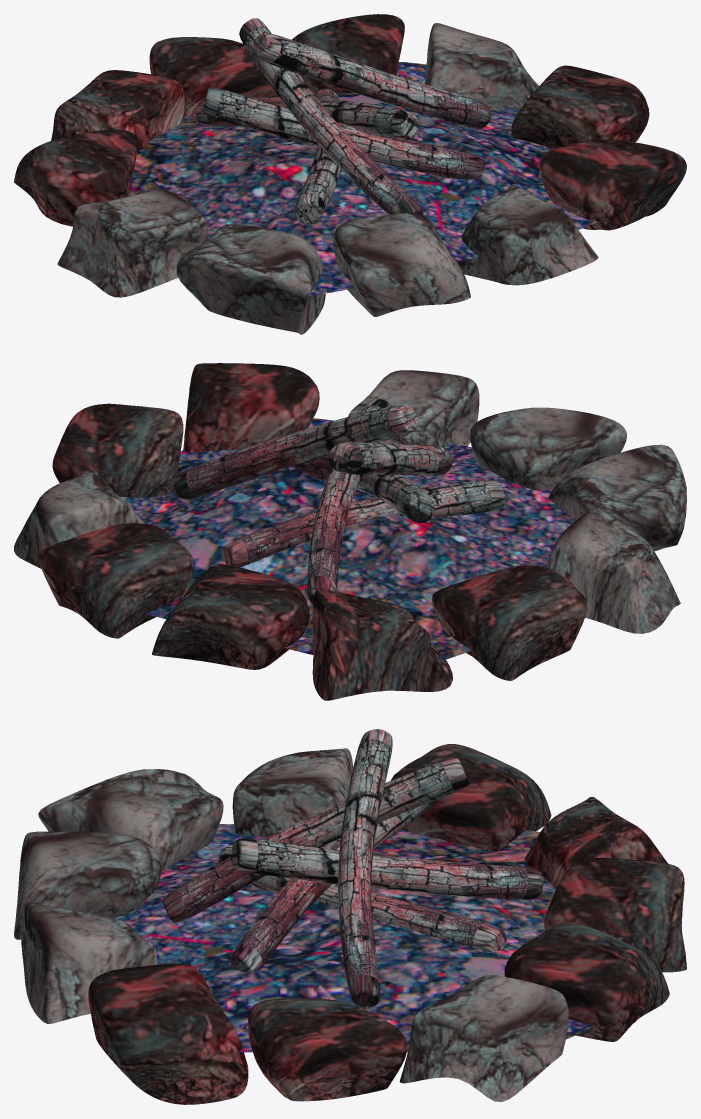
Rendered from fireplace.fbx.
The picture shows the model from 3 angles, top to bottom: view 1: azimuth 30°, elevation 25°; view 2: azimuth 150°, elevation 25°; view 3: azimuth 270°, elevation 25°; orthographic projection. The views are drawn at different scales.
Visible parts, largest first — view 1: Ohniste; view 2: Ohniste; view 3: Ohniste.
Part boxes in pixels (x1,y1,x2,y2): Ohniste: [14, 14, 686, 334]; Ohniste: [14, 363, 686, 700]; Ohniste: [14, 729, 686, 1104].
Bounding box in the file's own units: 2.57 × 0.835 × 2.32.
